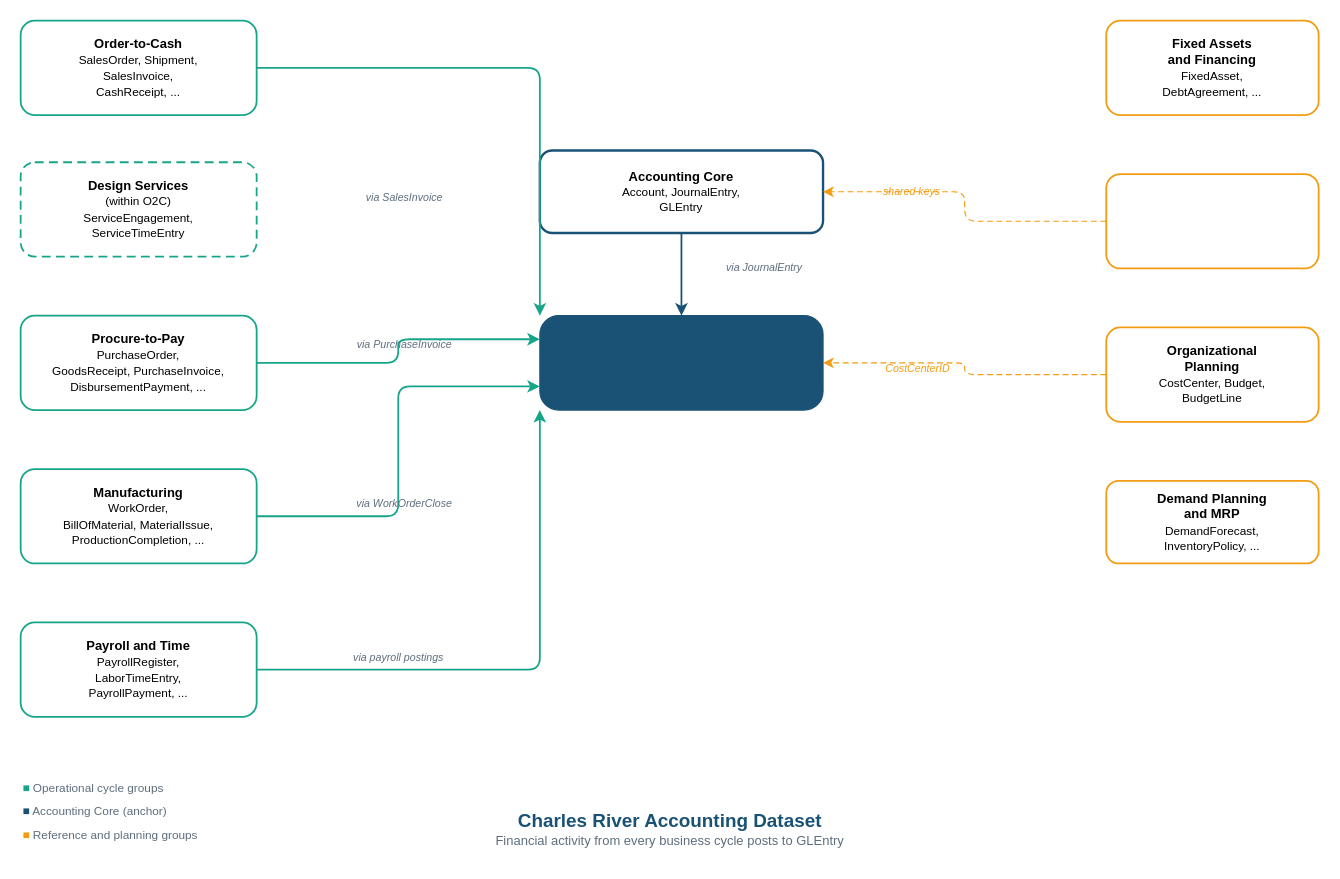
Image size: 1340x879. Some labels were removed from this diagram. Here are the shapes that lost their labels. From the top down, the box of each, then its label:
(1105, 173, 1319, 269): Master Data Item, Warehouse, Employee
(539, 314, 823, 410): GLEntry Single source of truth for financial position
